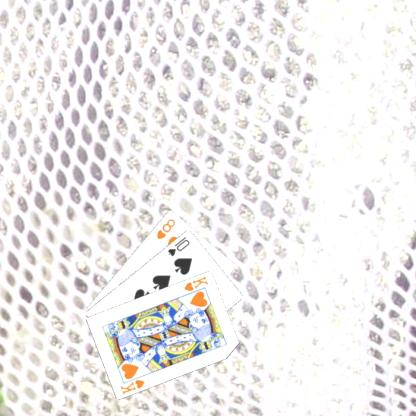10S: (166, 233, 192, 258)
8H: (154, 216, 176, 240)
KH: (118, 376, 146, 395), (181, 274, 209, 292)
